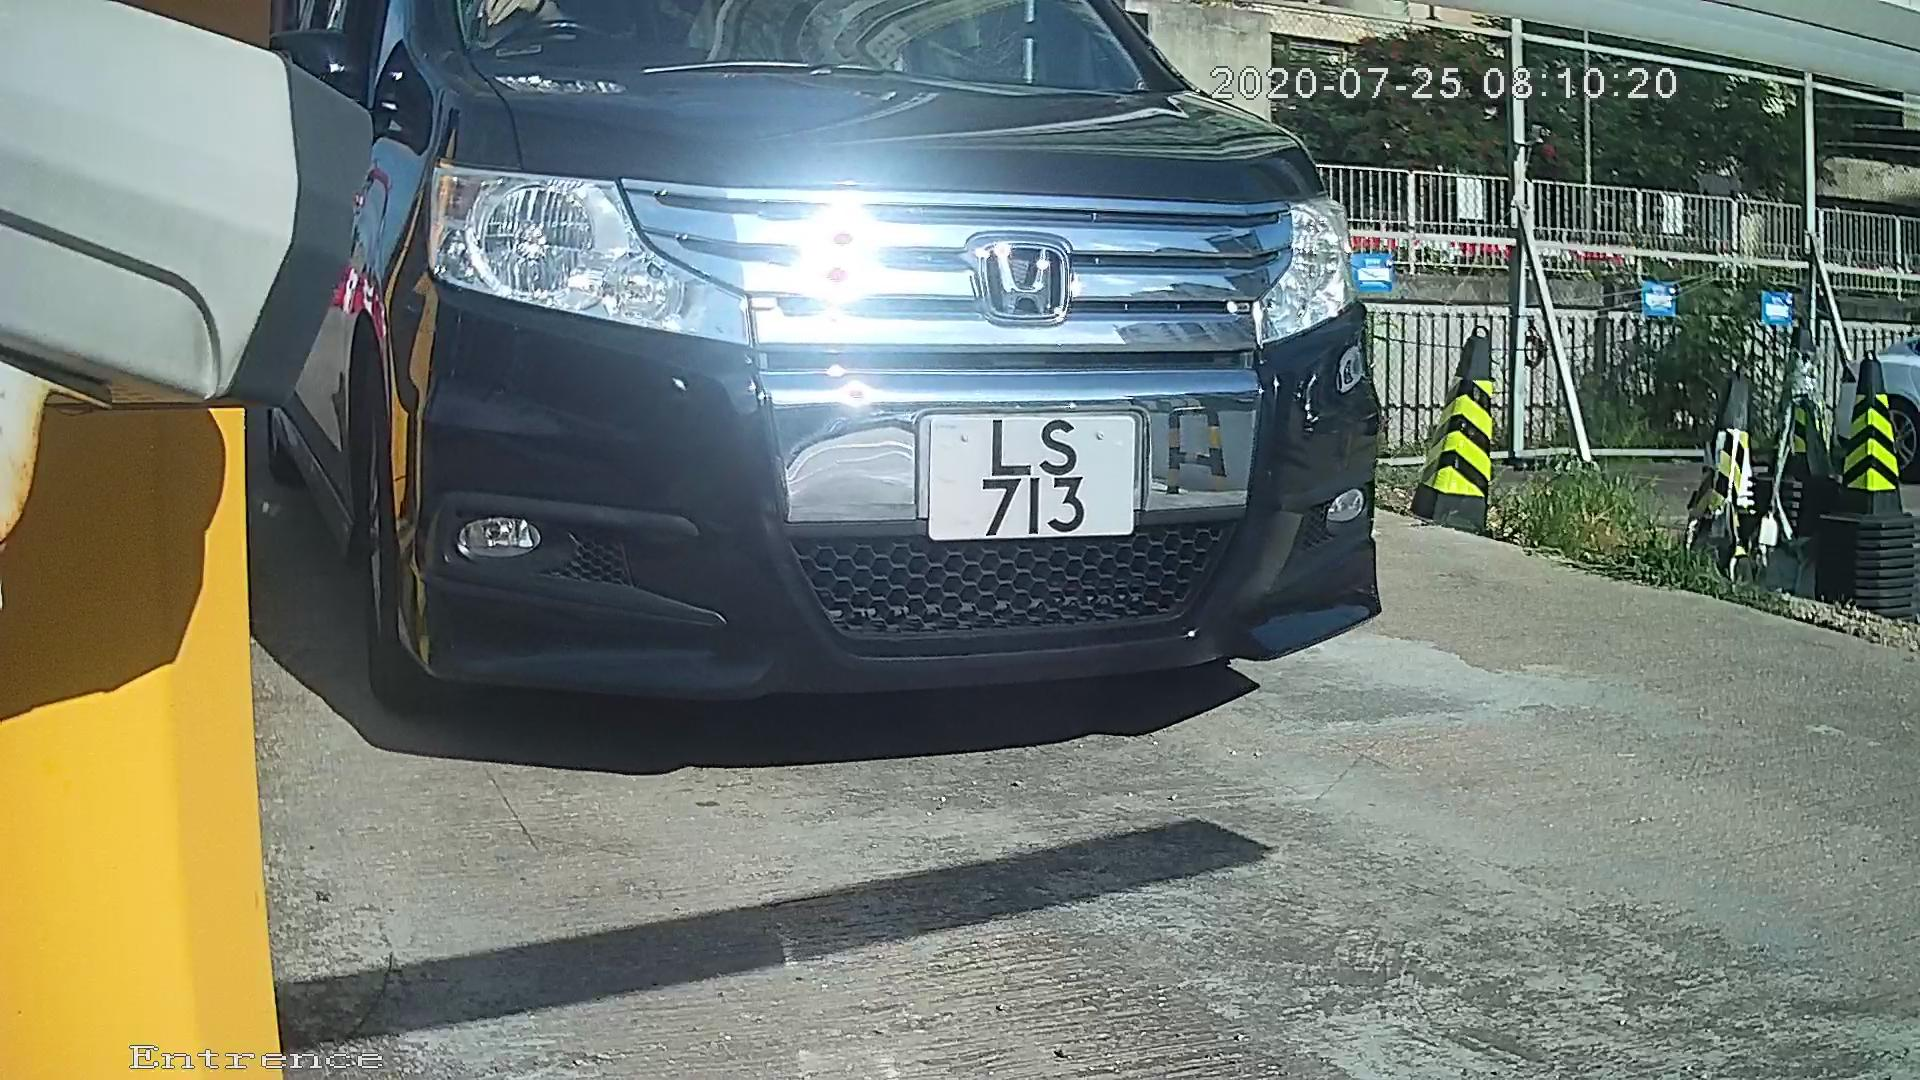License Plate: (918, 391, 1183, 550)
